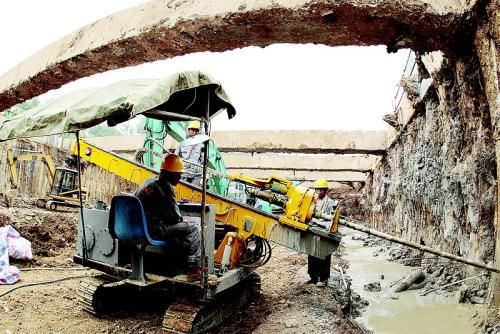helmet: (159, 149, 190, 188), (309, 175, 331, 198), (187, 118, 204, 141)
